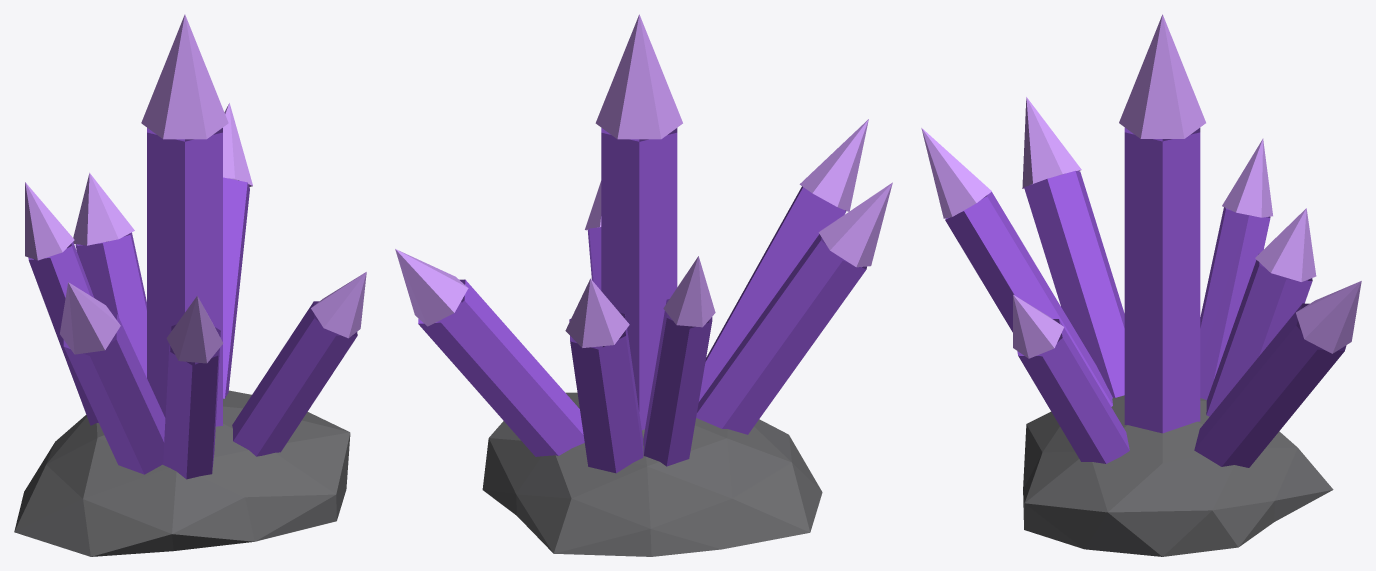
Rendered from crystals_a.obj.
3 views of the same model, side by side, from view 1: azimuth 30°, elevation 25°; view 2: azimuth 150°, elevation 25°; view 3: azimuth 270°, elevation 25° (orthographic).
Size of the model in its own units: 0.8678 by 1.2 by 1.01.
